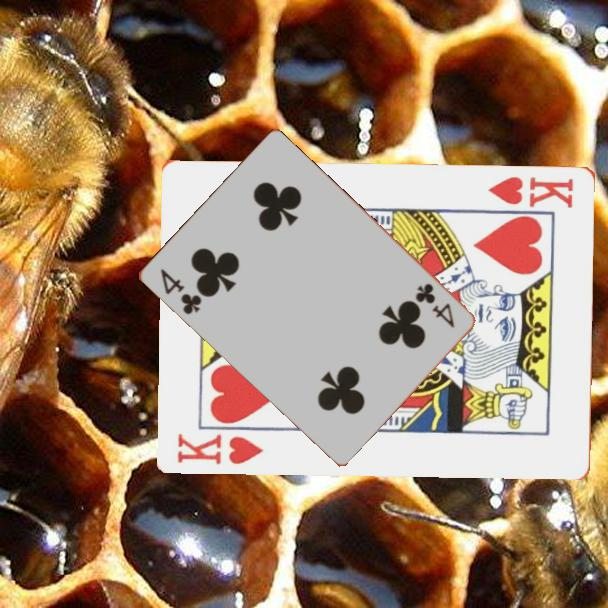c04: (156, 265, 204, 318), (412, 279, 457, 331)
h13: (174, 429, 267, 467), (485, 173, 577, 211)
